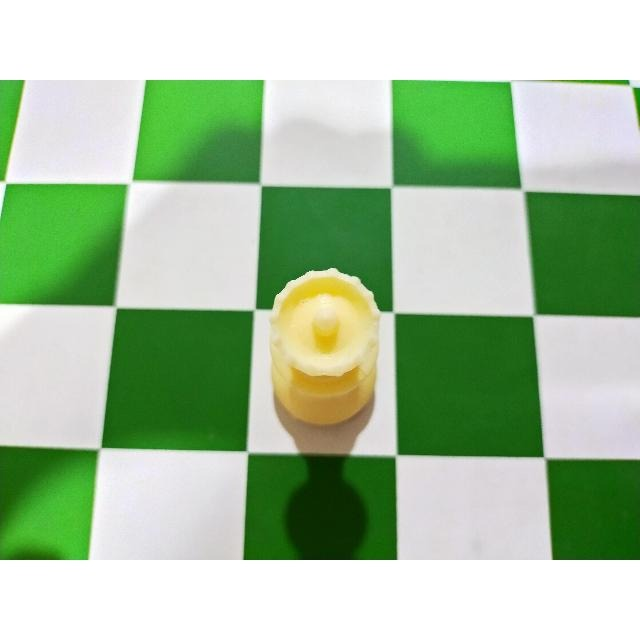white-queen: (246, 236, 395, 444)
